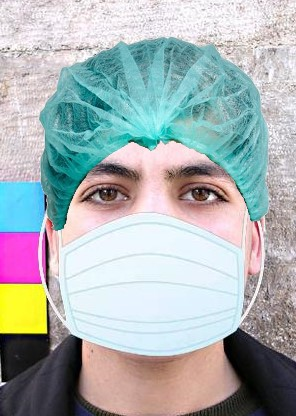with_mask_and_cap: (41, 44, 263, 355)
